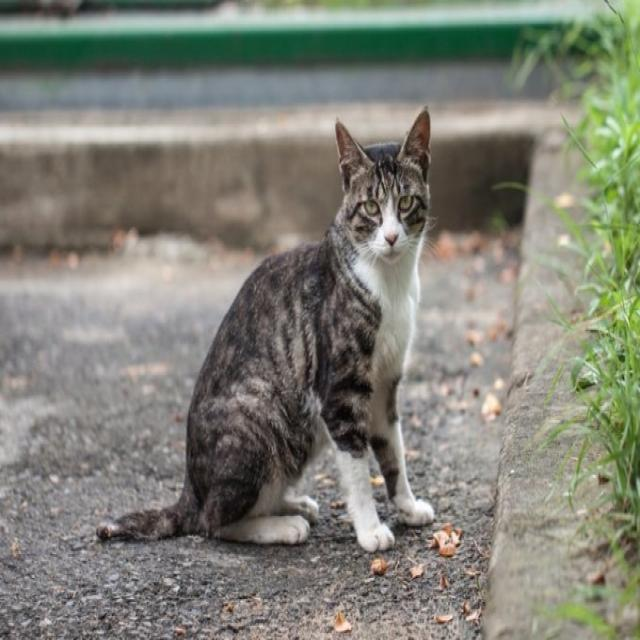cat: (73, 86, 502, 568)
